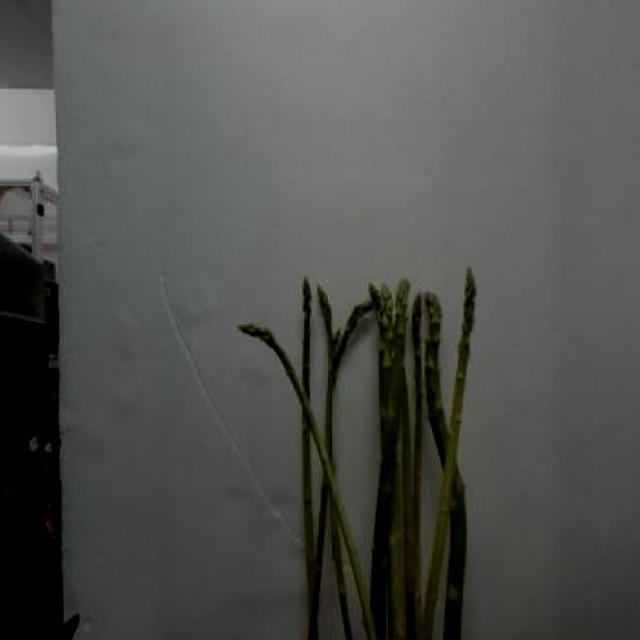aspargus: (227, 317, 380, 636), (414, 260, 481, 639)
